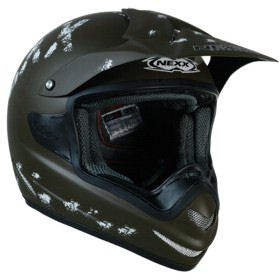helmet: (13, 19, 255, 250)
